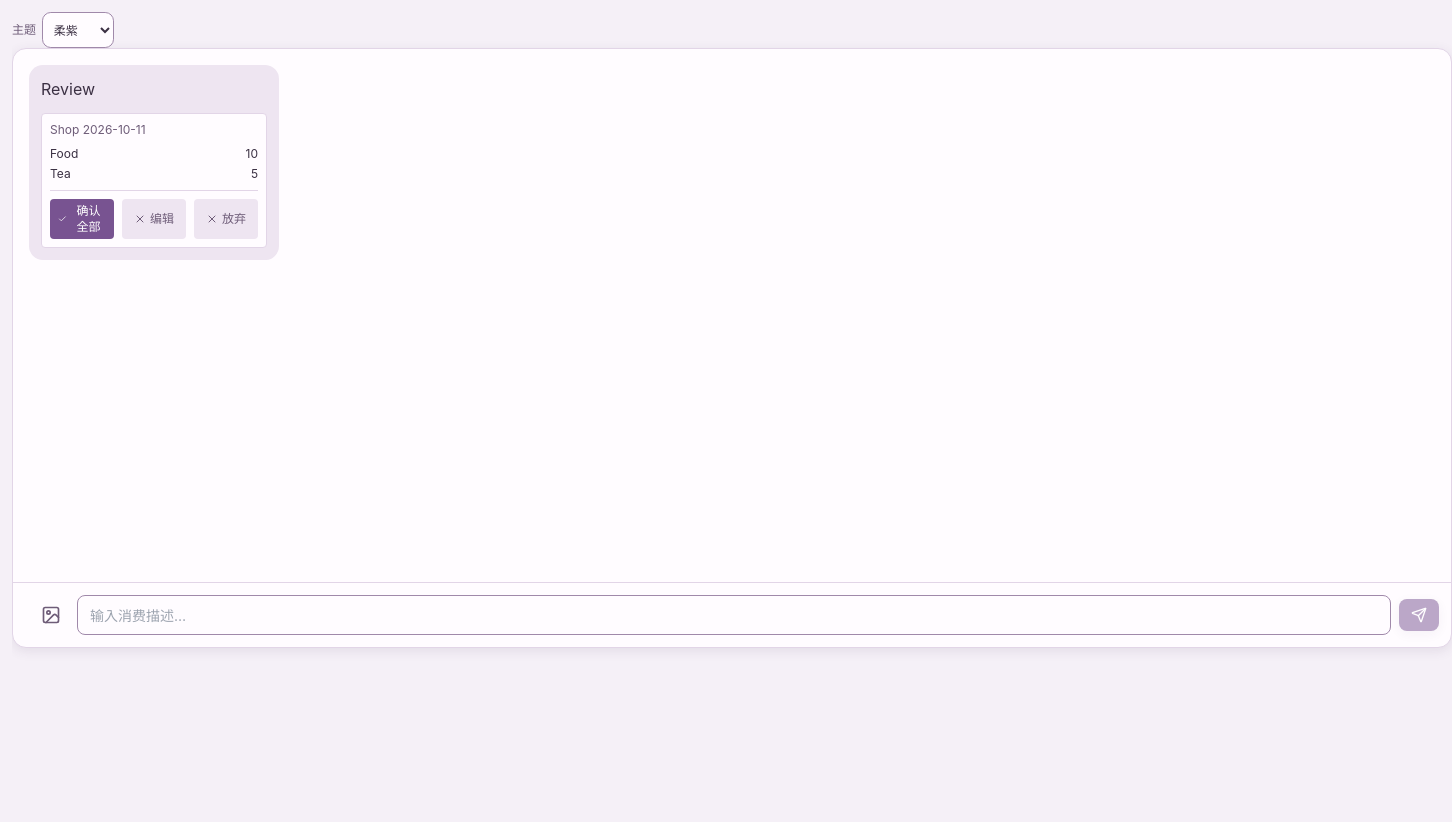
Scenario: receipt discard creates no transaction
Click the button "放弃": [226, 219] box [194,199,258,239]
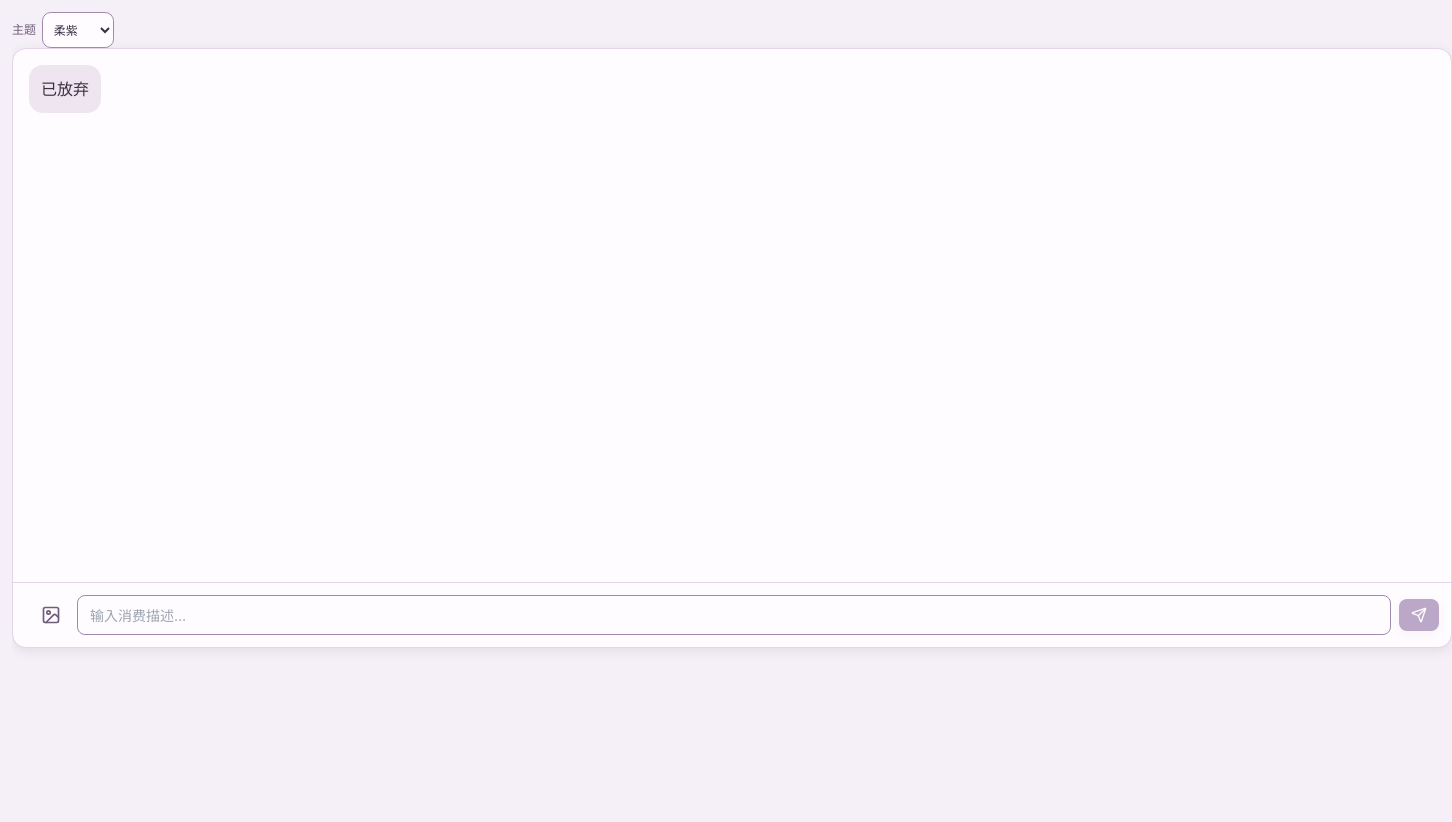
Expected: the button "确认全部" is gone
